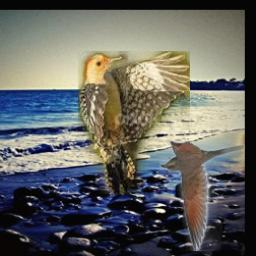Cuckoo: (161, 141, 245, 251)
Woodpecker: (78, 51, 190, 194)
